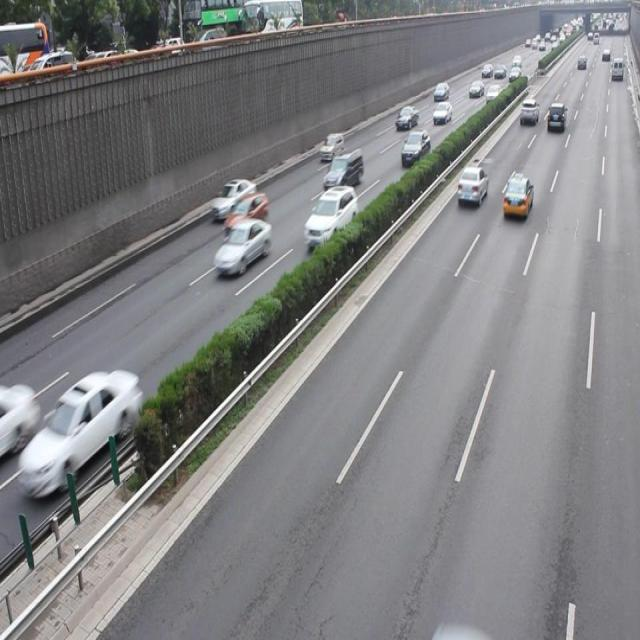car: (19, 365, 142, 497), (212, 215, 270, 278), (303, 185, 358, 246), (1, 380, 39, 458), (213, 177, 256, 220), (225, 192, 268, 232), (501, 174, 532, 221), (455, 164, 488, 208), (400, 129, 430, 167), (319, 131, 344, 163)
truck: (323, 147, 363, 192)
